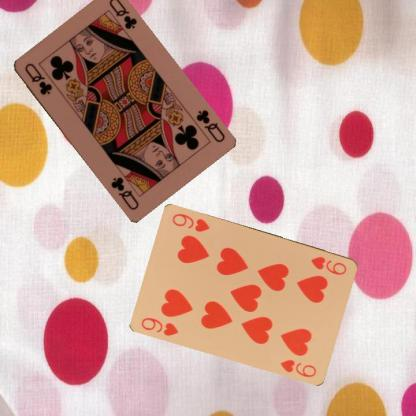9h: (139, 314, 180, 338), (308, 254, 349, 276)
Qc: (193, 107, 226, 144), (22, 60, 53, 97)
